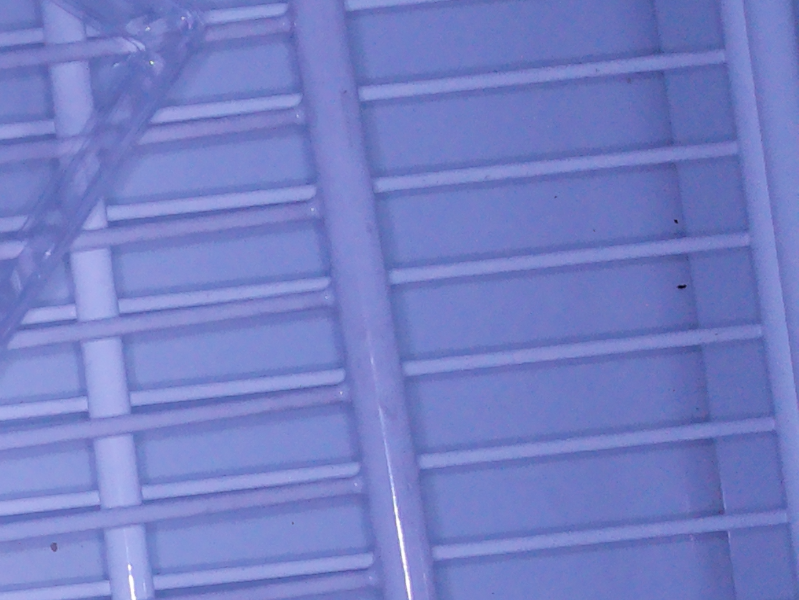plate: (1, 1, 206, 346)
